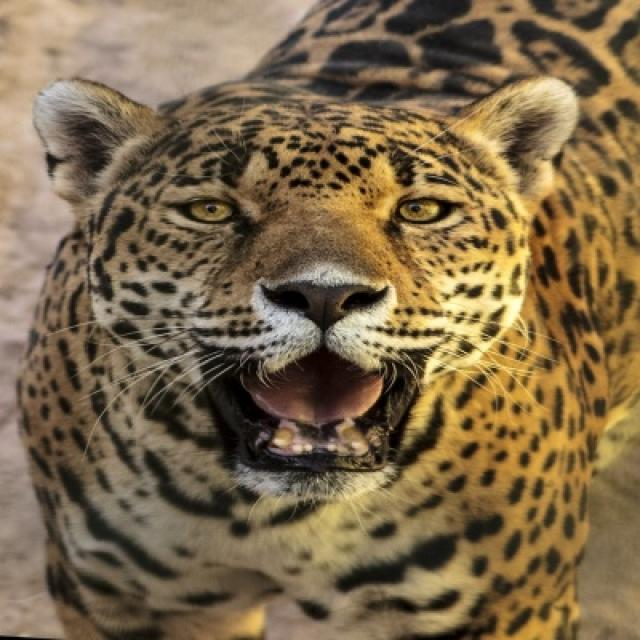Jaguar: (14, 0, 638, 638)
